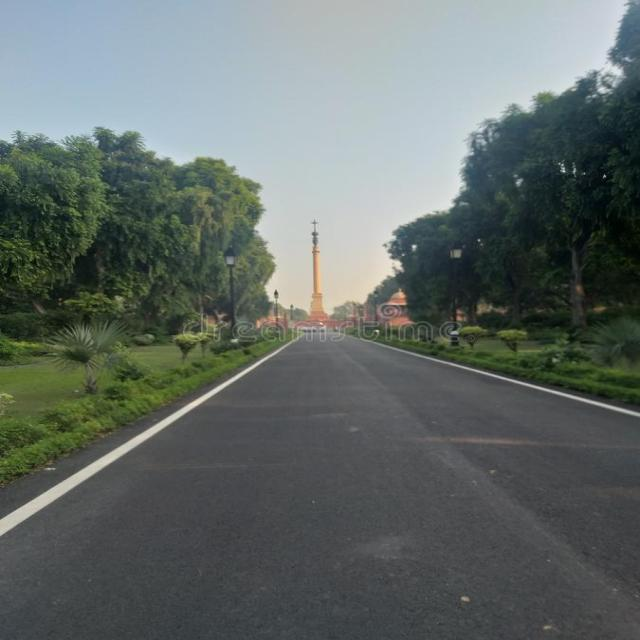Clean road: (0, 330, 640, 640)
